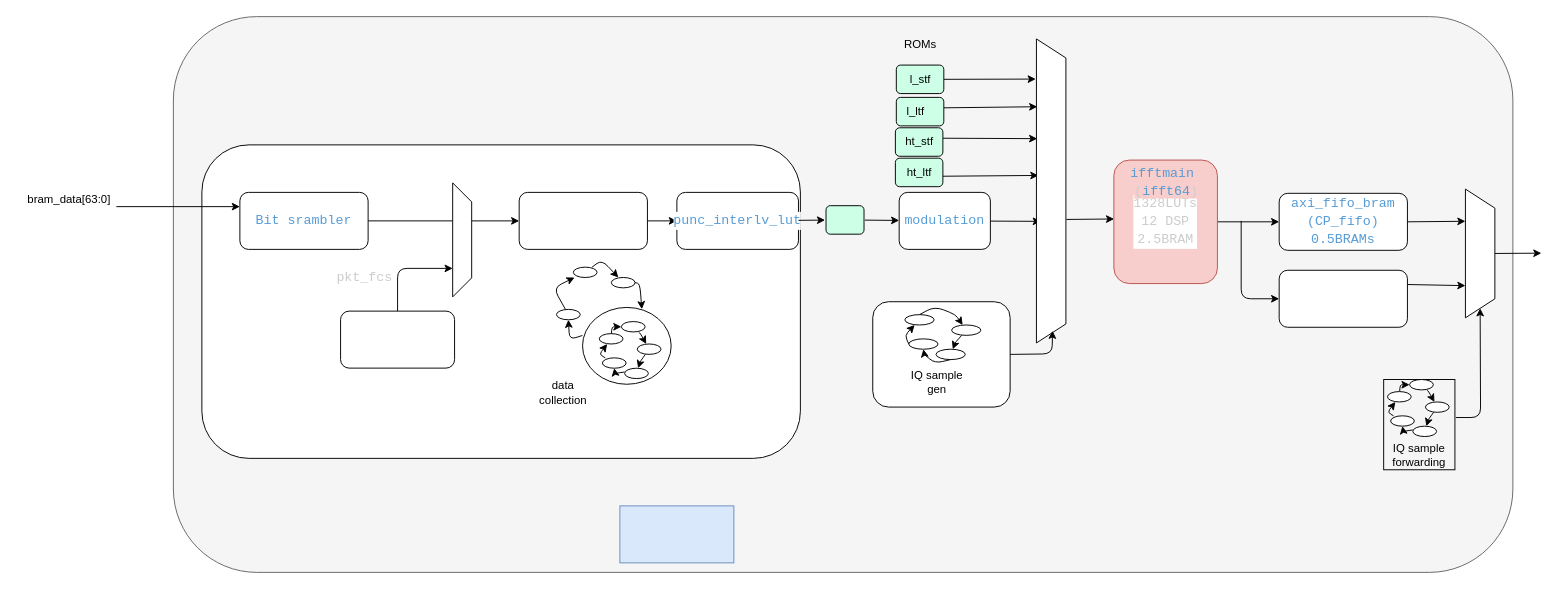
Some shapes in this 1566 by 589 pixel diagram are drawn without their labels. The centre of each missing label's shape, as x and y in pixels:
3481LUTs 12 DSPs 4BRAMs: (676,534)
axi_fifo_bram ( pkt_fifo ) 0.5BRAMs: (1342,298)
convenc: (582,220)
crc32_tx: (397,339)
ram: (844,219)
